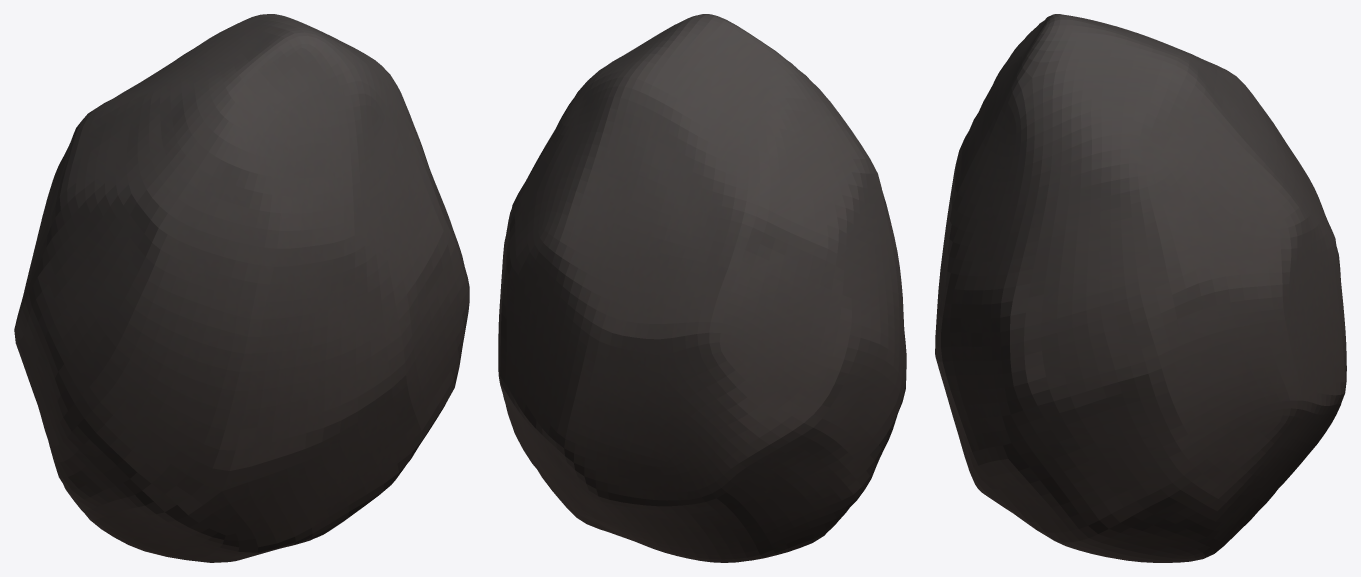
Rendered from Rock12_Textured.fbx.
The picture shows the model from 3 angles, left to right: view 1: azimuth 30°, elevation 25°; view 2: azimuth 150°, elevation 25°; view 3: azimuth 270°, elevation 25°; orthographic projection. The views are drawn at different scales.
Parts seen in each view (by area): view 1: GameJam_Rock2_ModelZbrush:Group52283; view 2: GameJam_Rock2_ModelZbrush:Group52283; view 3: GameJam_Rock2_ModelZbrush:Group52283.
Part boxes in pixels (box(x1,y1,x2,y2)): GameJam_Rock2_ModelZbrush:Group52283: box(14, 14, 469, 562); GameJam_Rock2_ModelZbrush:Group52283: box(498, 14, 906, 562); GameJam_Rock2_ModelZbrush:Group52283: box(935, 14, 1346, 562).
Size of the model in its own units: 1.2 by 1.51 by 1.07.
Materials: 1 (1 with a texture image).
